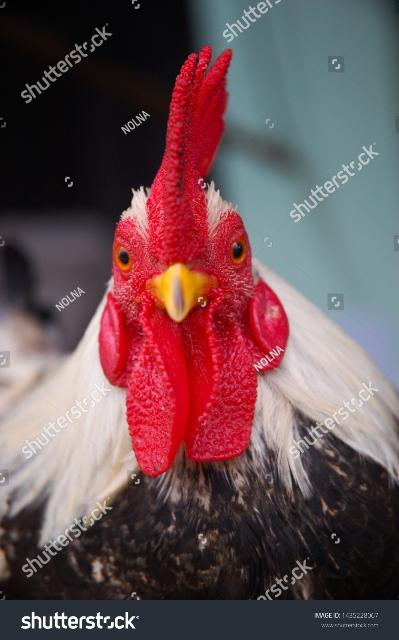Chicken: (1, 44, 399, 599)
